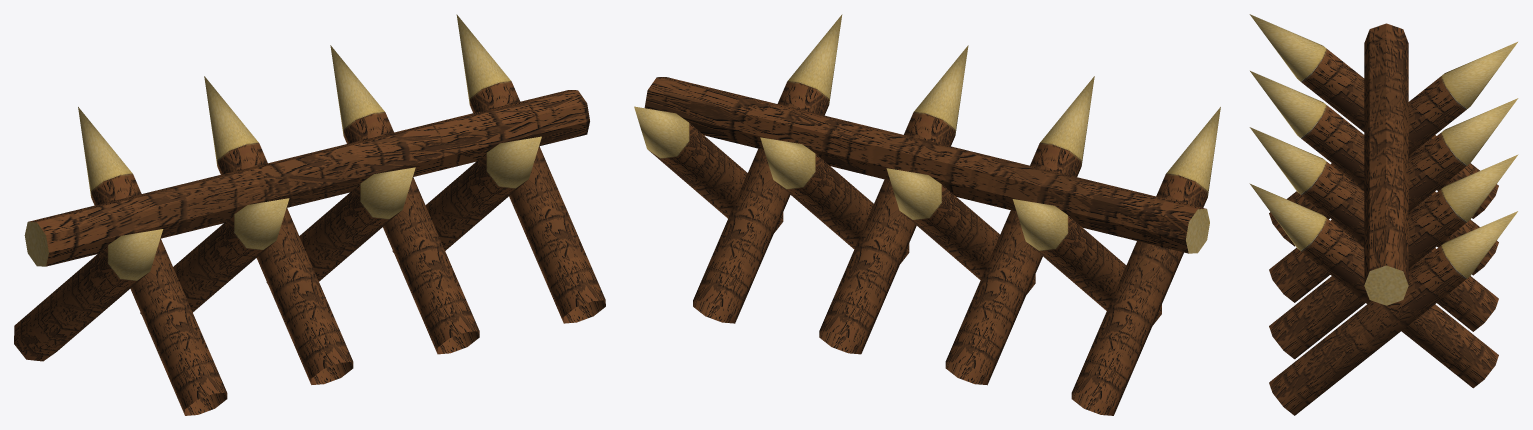
File: spikeBarricade.fbx
The picture shows the model from 3 angles, left to right: view 1: azimuth 30°, elevation 25°; view 2: azimuth 150°, elevation 25°; view 3: azimuth 270°, elevation 25°; orthographic projection. The views are drawn at different scales.
Parts seen in each view (by area): view 1: spikeBarricadeXbar, spikeBarricade5, spikeBarricade4, spikeBarricade6, spikeBarricade7, spikeBarricade, spikeBarricade1, spikeBarricade3, spikeBarricade2; view 2: spikeBarricadeXbar, spikeBarricade, spikeBarricade1, spikeBarricade3, spikeBarricade2, spikeBarricade7, spikeBarricade6, spikeBarricade4, spikeBarricade5; view 3: spikeBarricadeXbar, spikeBarricade7, spikeBarricade3, spikeBarricade6, spikeBarricade2, spikeBarricade5, spikeBarricade1, spikeBarricade, spikeBarricade4.
Boxes of the visible parts, <box> form: spikeBarricadeXbar: <box>24,90,589,266</box>; spikeBarricade5: <box>204,76,353,384</box>; spikeBarricade4: <box>78,107,227,415</box>; spikeBarricade6: <box>330,45,479,354</box>; spikeBarricade7: <box>456,14,605,323</box>; spikeBarricade: <box>14,229,163,361</box>; spikeBarricade1: <box>140,198,289,314</box>; spikeBarricade3: <box>392,136,541,252</box>; spikeBarricade2: <box>266,167,415,283</box>; spikeBarricadeXbar: <box>644,77,1209,253</box>; spikeBarricade: <box>1071,107,1220,415</box>; spikeBarricade1: <box>945,76,1094,385</box>; spikeBarricade3: <box>693,14,842,323</box>; spikeBarricade2: <box>819,45,968,354</box>; spikeBarricade7: <box>634,106,783,232</box>; spikeBarricade6: <box>760,137,909,263</box>; spikeBarricade4: <box>1012,199,1161,324</box>; spikeBarricade5: <box>886,168,1035,294</box>; spikeBarricadeXbar: <box>1364,23,1408,305</box>; spikeBarricade7: <box>1269,211,1517,415</box>; spikeBarricade3: <box>1249,183,1498,388</box>; spikeBarricade6: <box>1269,154,1518,359</box>; spikeBarricade2: <box>1249,127,1498,331</box>; spikeBarricade5: <box>1269,98,1518,302</box>; spikeBarricade1: <box>1250,71,1498,275</box>; spikeBarricade: <box>1249,14,1498,218</box>; spikeBarricade4: <box>1269,42,1517,246</box>.
Size of the model in its own units: 3.22 by 1.25 by 1.51.
